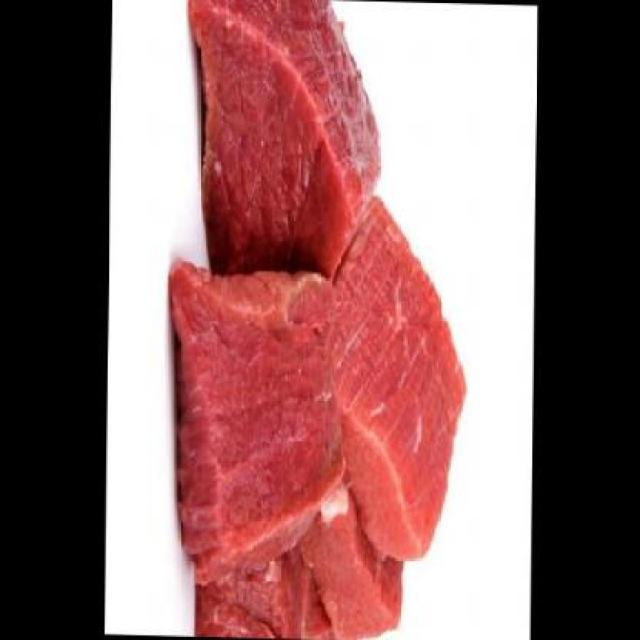beef: (160, 0, 471, 638)
